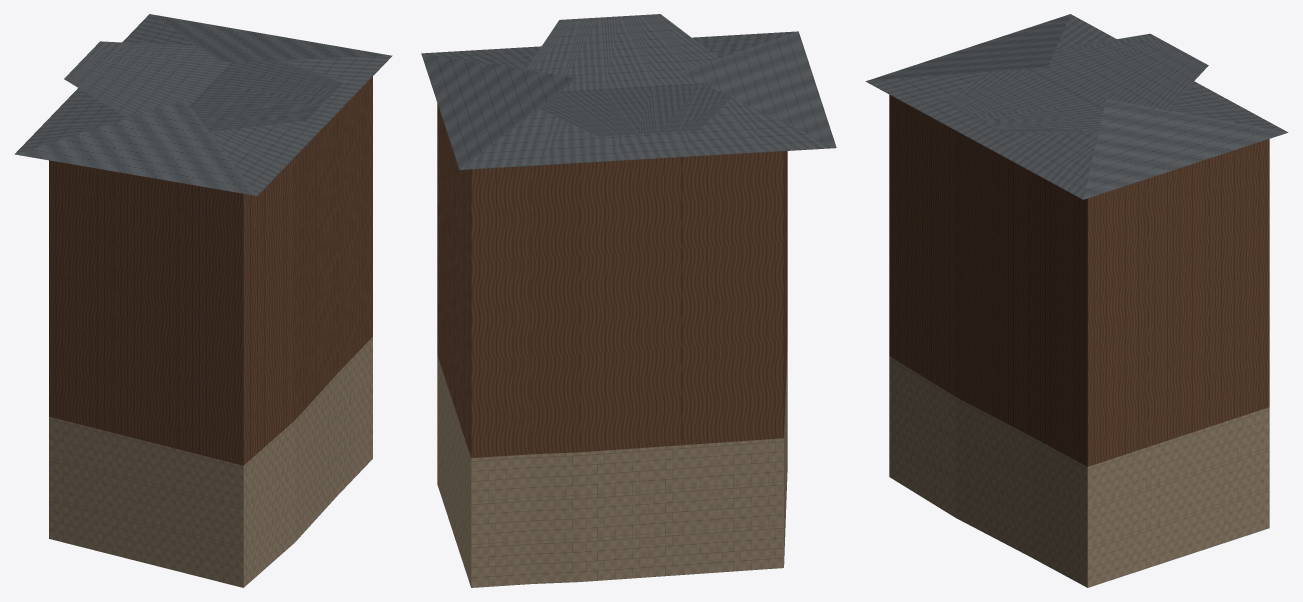
Rendered from bld_c-3_17_538.gltf.
3 renders of one model, left to right at view 1: azimuth 30°, elevation 25°; view 2: azimuth 150°, elevation 25°; view 3: azimuth 270°, elevation 25°, orthographic. The views are drawn at different scales.
Visible parts, largest first — view 1: bld_c-3_17_538; view 2: bld_c-3_17_538; view 3: bld_c-3_17_538.
Part boxes in pixels (bbox=[...]): bld_c-3_17_538: bbox=[14, 14, 392, 587]; bld_c-3_17_538: bbox=[421, 14, 836, 587]; bld_c-3_17_538: bbox=[865, 14, 1288, 587].
Bounding box in the file's own units: 16.81 × 17.7 × 16.17.
Materials: 3 (3 with a texture image).
